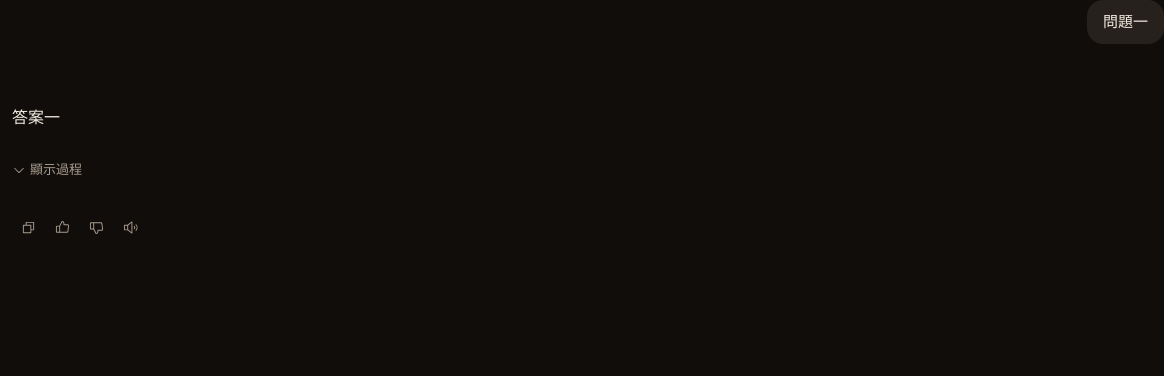
Test: PersistedThreadView process disclosure › groups blocks by lane, drops empty thinking and malformed blocks
Click the button "顯示過程": (47, 170) 12,148 -> 82,192
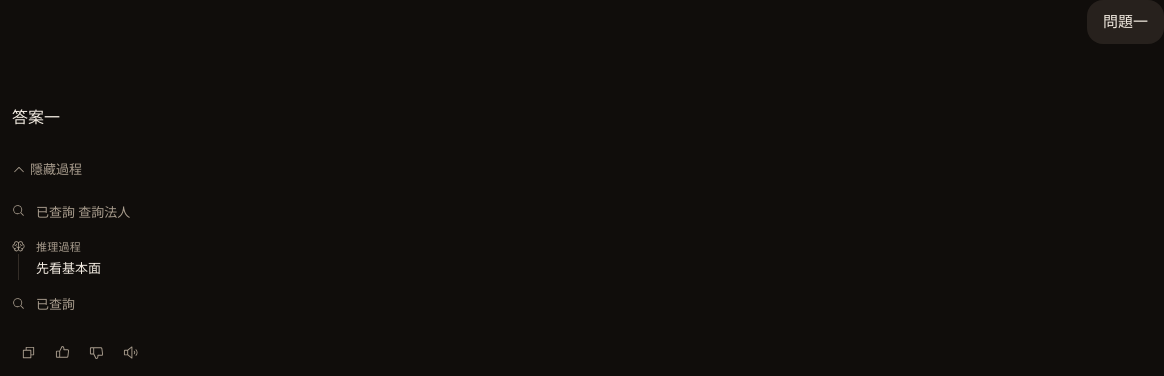
Click the button "隱藏過程": (47, 170) 12,148 -> 82,192
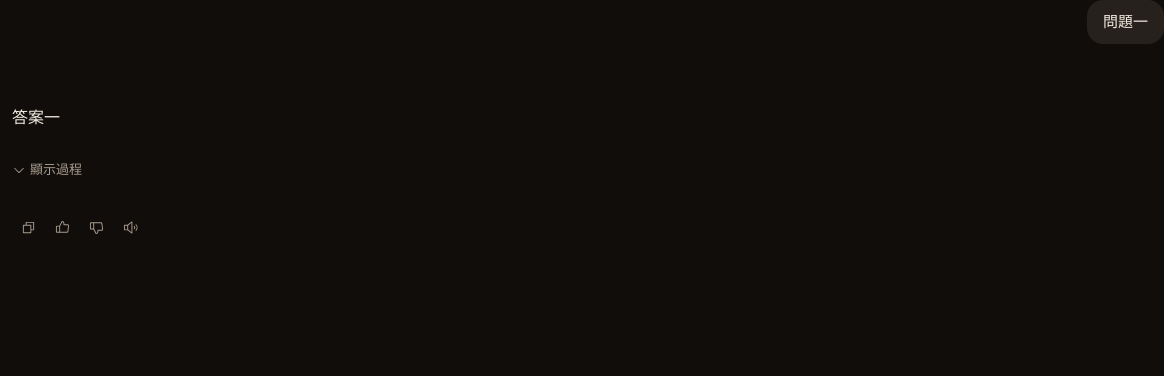
Check: the list is gone
